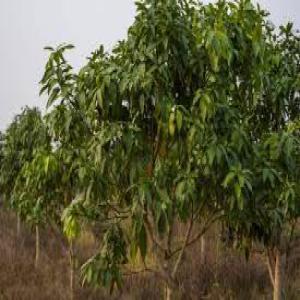Tree: (4, 0, 297, 292)
